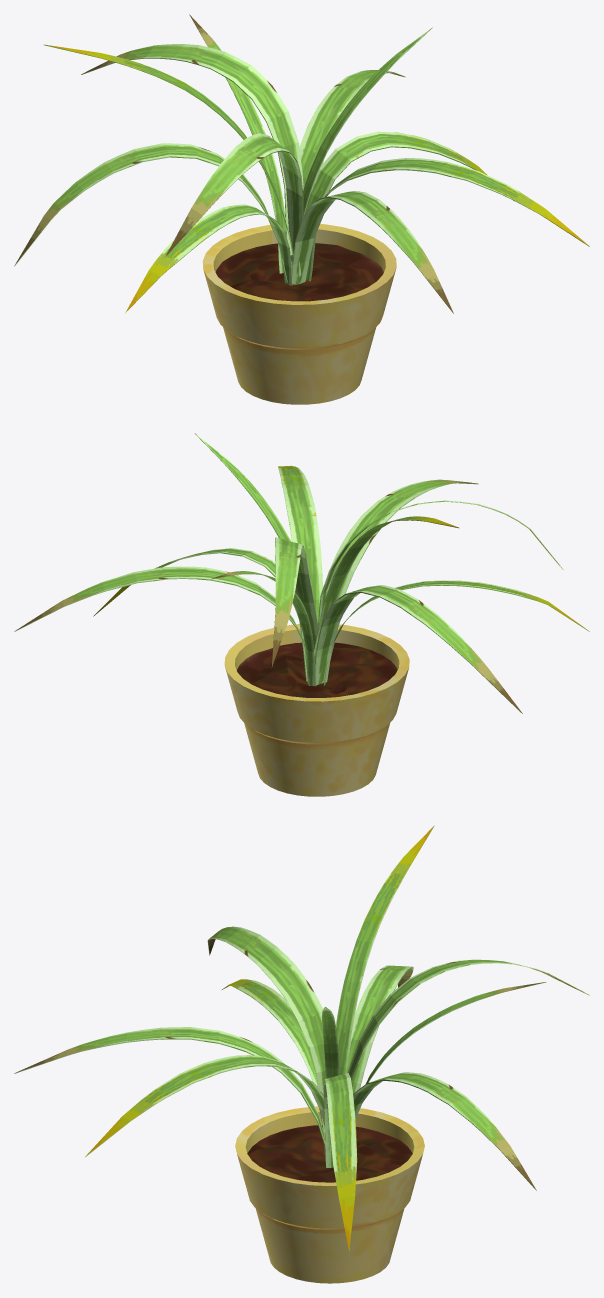
Rendered from Chlorophytum_Neutral_end.glb.
3 renders of one model, top to bottom at view 1: azimuth 30°, elevation 25°; view 2: azimuth 150°, elevation 25°; view 3: azimuth 270°, elevation 25°, orthographic. The views are drawn at different scales.
Visible parts, largest first — view 1: Pot, Cube.009, Cube.012, Cube.017, Cube.010, Cube.007, Cube.019, Cube.006, Cube.021, Cube.014, Cube.013, Cube.004; view 2: Pot, Cube.010, Cube.009, Cube.006, Cube.021, Cube.017, Cube.004, Cube.019, Cube.014, Cube.013, Cube.007, Cube.012; view 3: Pot, Cube.012, Cube.007, Cube.004, Cube.017, Cube.006, Cube.021, Cube.010, Cube.009, Cube.019, Cube.014, Cube.013.
Boxes of the visible parts, x1,y1,x2,y2 form: Pot: (202, 224, 396, 404); Cube.009: (81, 44, 303, 255); Cube.012: (165, 133, 303, 265); Cube.017: (292, 191, 453, 313); Cube.010: (14, 143, 287, 282); Cube.007: (305, 131, 514, 281); Cube.019: (125, 204, 292, 312); Cube.006: (298, 158, 589, 276); Cube.021: (286, 70, 405, 275); Cube.014: (189, 14, 285, 273); Cube.013: (296, 27, 432, 282); Cube.004: (44, 44, 293, 255); Pot: (224, 624, 409, 796); Cube.010: (315, 585, 522, 713); Cube.009: (271, 537, 319, 667); Cube.006: (278, 465, 322, 623); Cube.021: (14, 566, 310, 685); Cube.017: (327, 479, 478, 599); Cube.004: (314, 516, 458, 662); Cube.019: (324, 580, 589, 685); Cube.014: (211, 571, 315, 686); Cube.013: (195, 433, 290, 541); Cube.007: (93, 548, 307, 681); Cube.012: (315, 500, 563, 665); Pot: (235, 1106, 424, 1283); Cube.012: (207, 926, 325, 1139); Cube.007: (324, 1073, 357, 1251); Cube.004: (335, 825, 434, 1075); Cube.017: (14, 1027, 325, 1146); Cube.006: (85, 1055, 327, 1157); Cube.021: (353, 1072, 536, 1190); Cube.010: (346, 965, 413, 1093); Cube.009: (348, 959, 589, 1082); Cube.019: (222, 979, 317, 1086); Cube.014: (365, 982, 546, 1084); Cube.013: (321, 1007, 339, 1078).
Size of the model in its own units: 11.56 by 8 by 12.43.
Materials: 4 (4 with a texture image).
